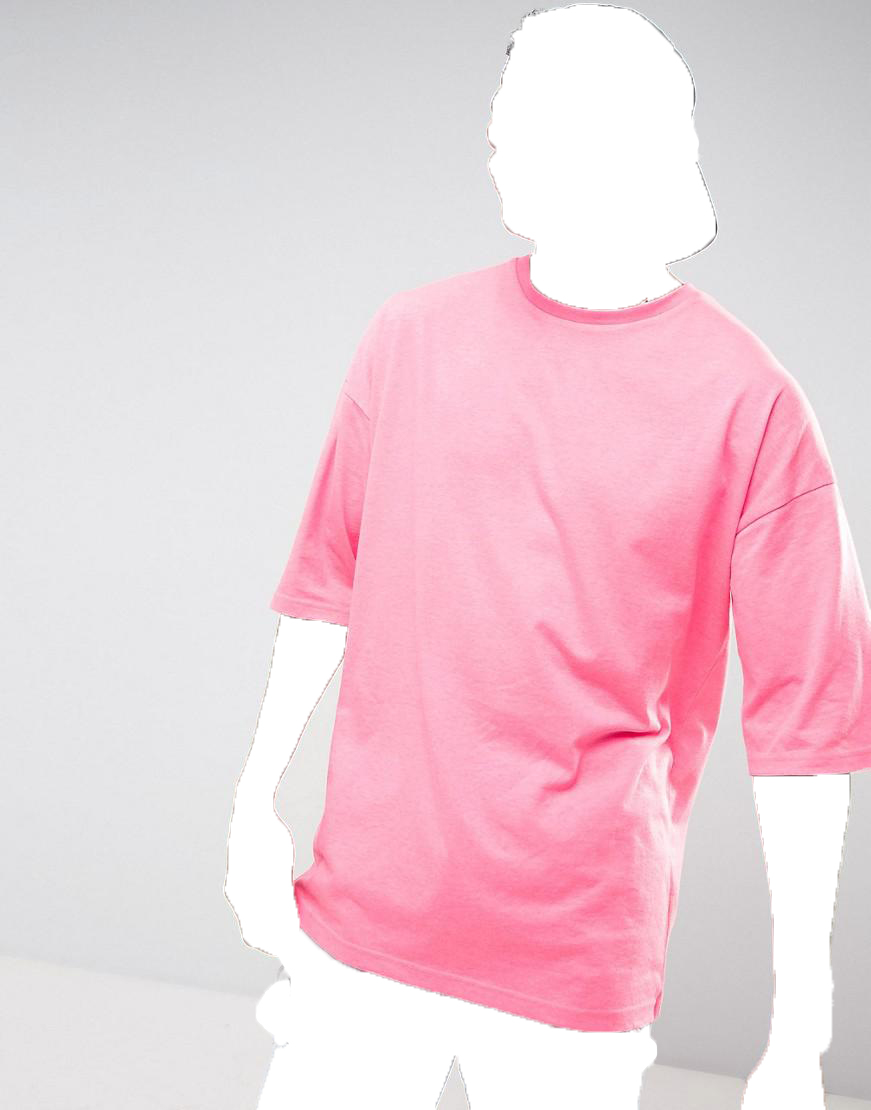teeshirt: (266, 257, 869, 1037)
